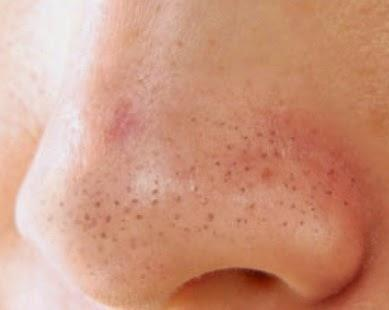Acne: (39, 110, 364, 267)
